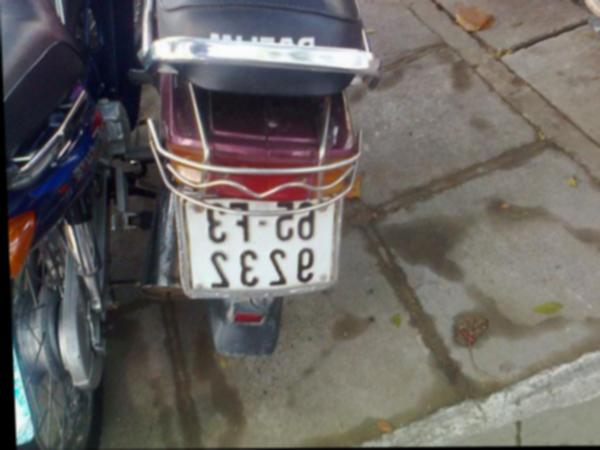License_Plate: (184, 192, 336, 297)
